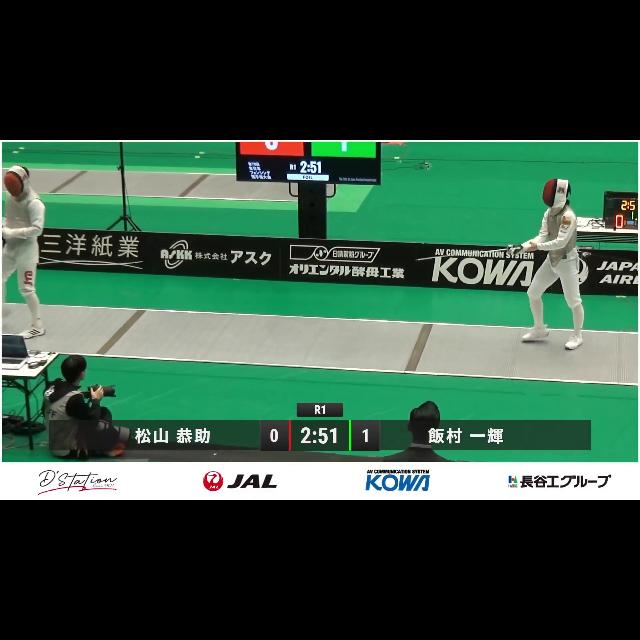blade: (409, 242, 521, 266)
